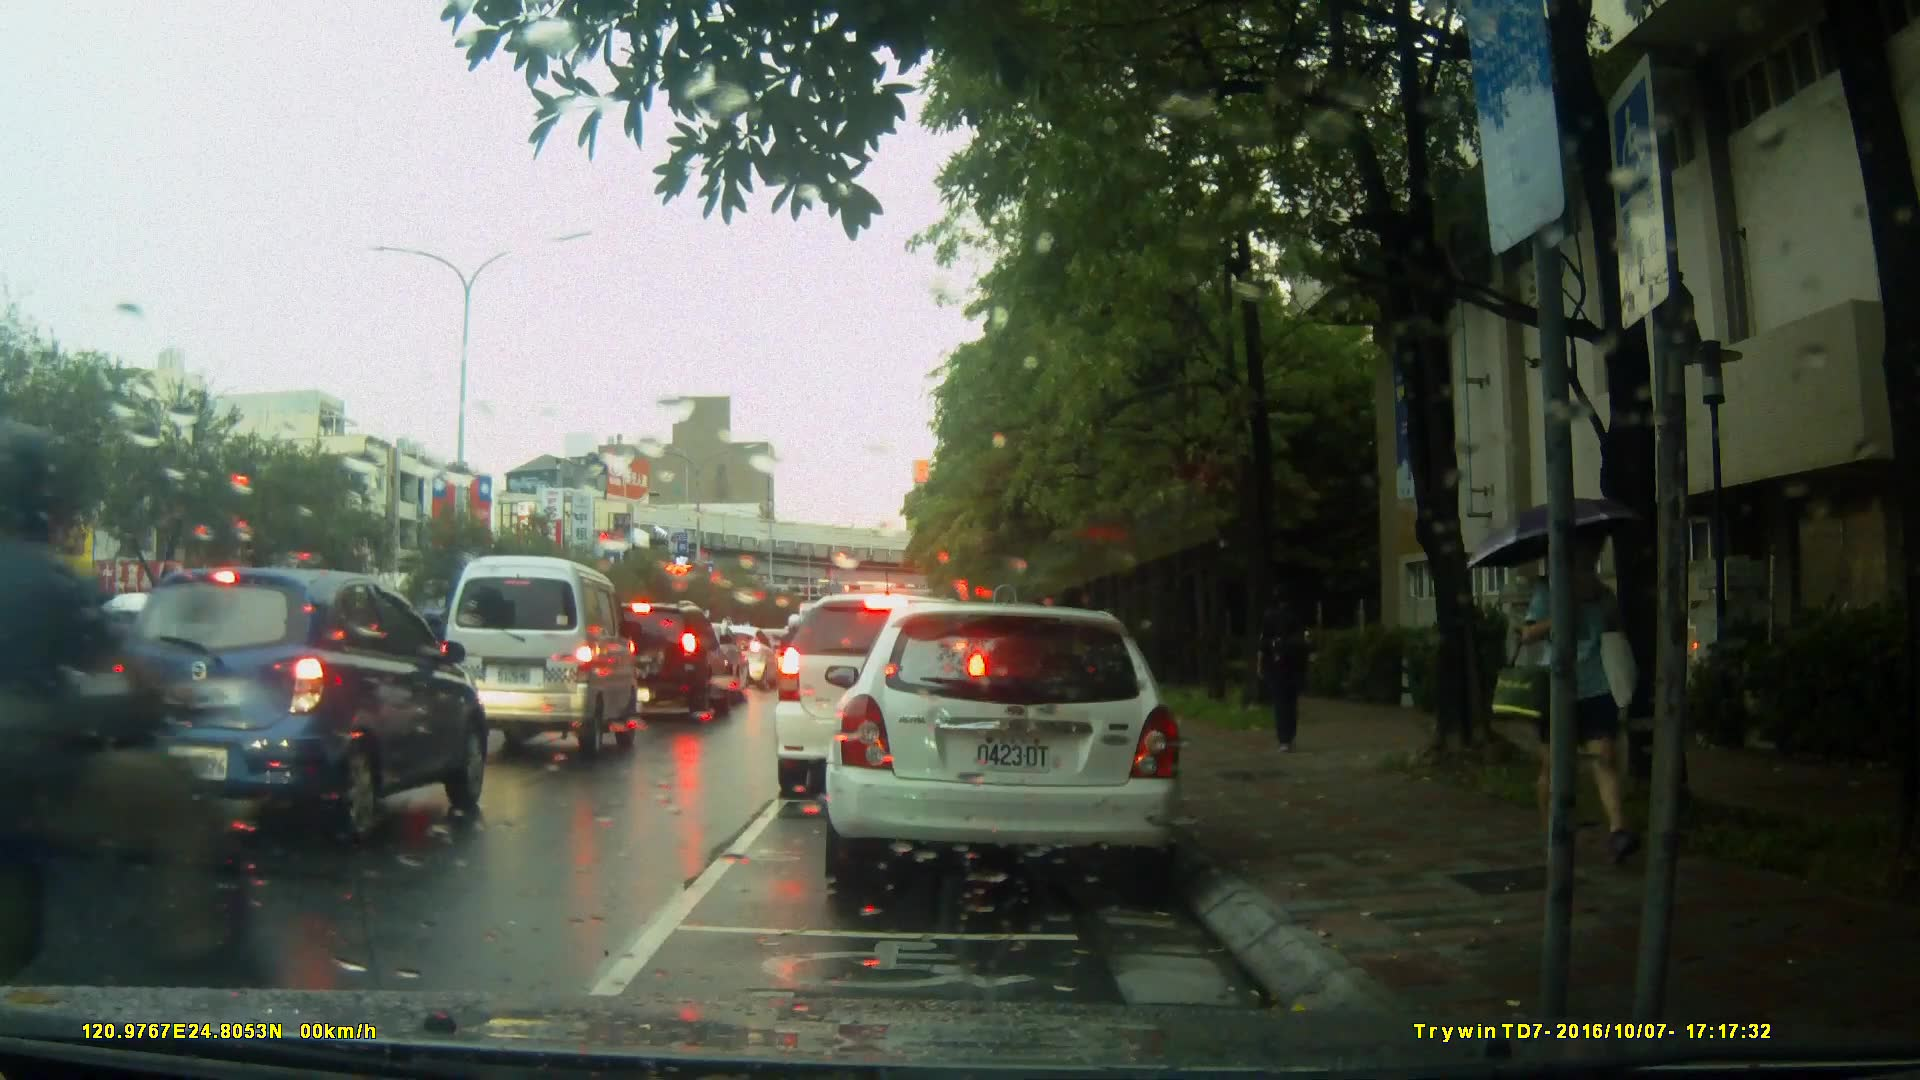pedestrian: (1531, 508, 1660, 884), (1248, 576, 1325, 760)
rider: (5, 422, 278, 1052)
vehicle: (815, 593, 1204, 909), (96, 565, 500, 848), (770, 590, 993, 802), (435, 553, 642, 763), (585, 603, 736, 724)
